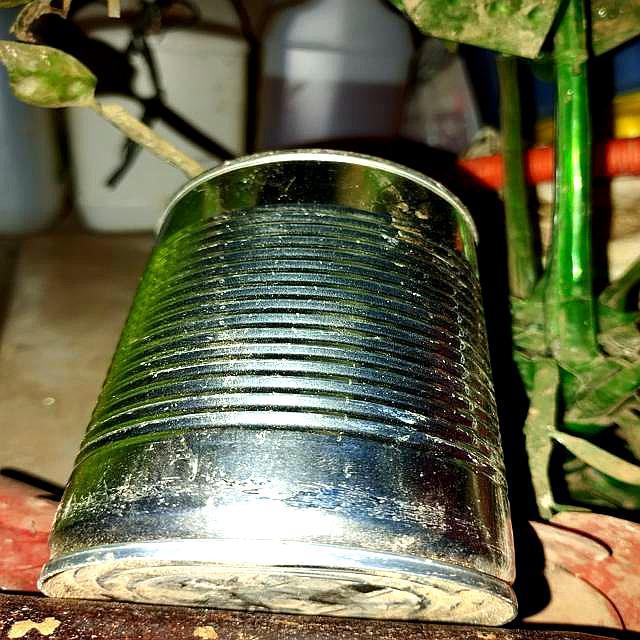Non-biodegradable: (34, 146, 521, 627)
